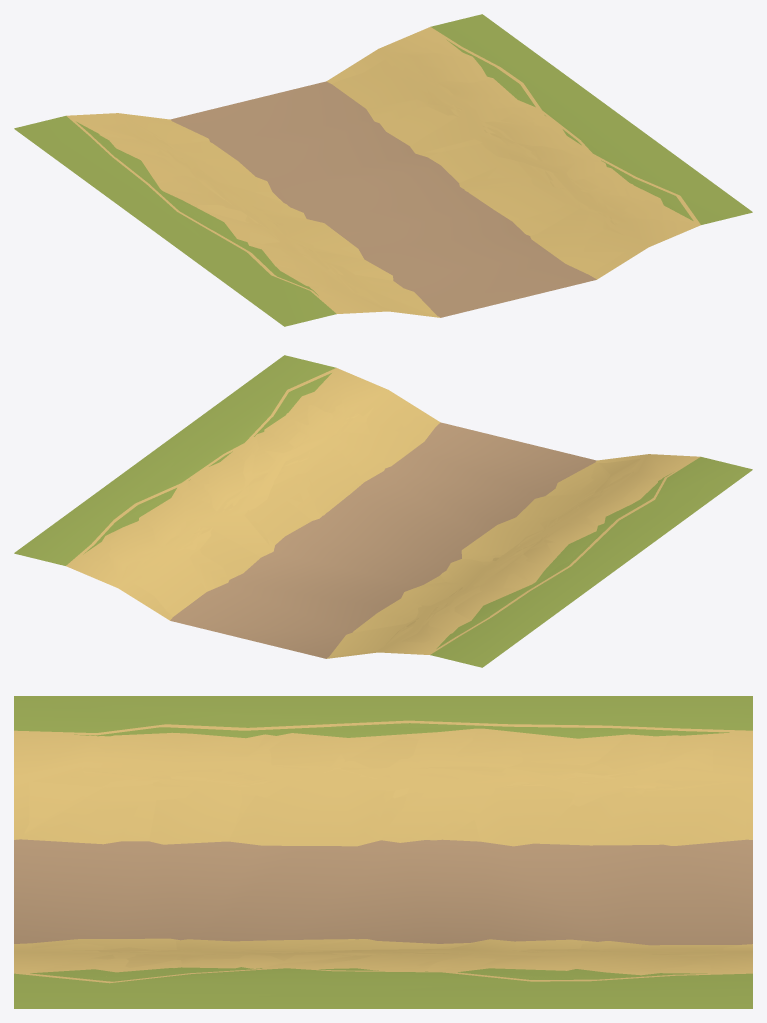
File: Ground.fbx
3 renders of one model, top to bottom at view 1: azimuth 30°, elevation 25°; view 2: azimuth 150°, elevation 25°; view 3: azimuth 270°, elevation 25°, orthographic. The views are drawn at different scales.
Visible parts, largest first — view 1: Ground9, Ground3, Ground2, Ground7, Ground8, Ground1, Ground4, Ground6, Ground5; view 2: Ground9, Ground3, Ground2, Ground7, Ground1, Ground8, Ground4, Ground6, Ground5; view 3: Ground9, Ground3, Ground1, Ground4, Ground8, Ground2, Ground6, Ground5, Ground7.
Part boxes in pixels (left/top/right/bottom): Ground9: left=14, top=14, right=752, bottom=326; Ground3: left=53, top=75, right=736, bottom=326; Ground2: left=116, top=39, right=699, bottom=300; Ground7: left=15, top=59, right=733, bottom=326; Ground8: left=16, top=53, right=752, bottom=326; Ground1: left=126, top=65, right=659, bottom=313; Ground4: left=61, top=54, right=616, bottom=324; Ground6: left=26, top=64, right=747, bottom=325; Ground5: left=40, top=51, right=751, bottom=323; Ground9: left=14, top=355, right=752, bottom=667; Ground3: left=30, top=372, right=686, bottom=658; Ground2: left=66, top=379, right=633, bottom=649; Ground7: left=26, top=377, right=739, bottom=667; Ground1: left=110, top=407, right=719, bottom=658; Ground8: left=14, top=392, right=751, bottom=667; Ground4: left=101, top=378, right=735, bottom=661; Ground6: left=18, top=376, right=730, bottom=666; Ground5: left=33, top=408, right=739, bottom=657; Ground9: left=14, top=696, right=752, bottom=1008; Ground3: left=30, top=725, right=741, bottom=1008; Ground1: left=25, top=724, right=746, bottom=979; Ground4: left=21, top=723, right=719, bottom=1008; Ground8: left=14, top=723, right=752, bottom=1008; Ground2: left=52, top=727, right=728, bottom=1008; Ground6: left=17, top=724, right=739, bottom=1008; Ground5: left=25, top=724, right=749, bottom=1008; Ground7: left=16, top=727, right=750, bottom=1008.
Size of the model in its own units: 4000 by 242 by 4000.
